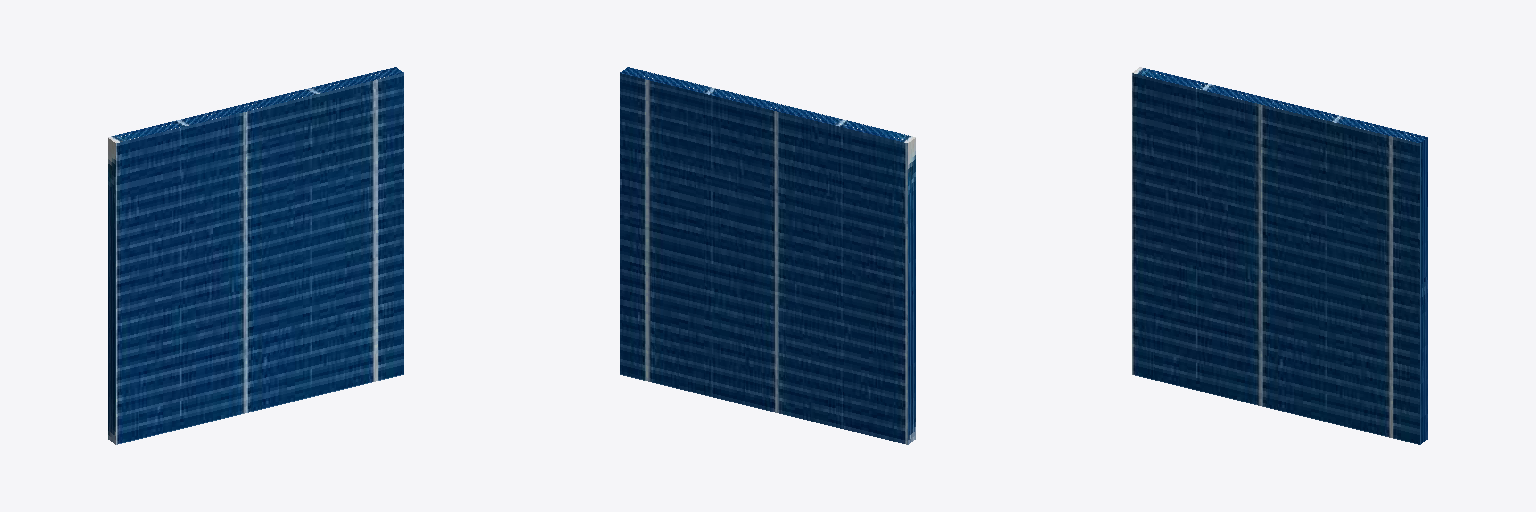
3 views of the same model, side by side, from view 1: azimuth 30°, elevation 25°; view 2: azimuth 150°, elevation 25°; view 3: azimuth 330°, elevation 25° (orthographic).
Parts seen in each view (by area): view 1: solarWing; view 2: solarWing; view 3: solarWing.
Part boxes in pixels (x1,y1,x2,y2): solarWing: (108, 67, 403, 444); solarWing: (620, 67, 915, 444); solarWing: (1132, 67, 1427, 444).
Bounding box in the file's own units: 40 × 40 × 2.
Materials: 1 (1 with a texture image).